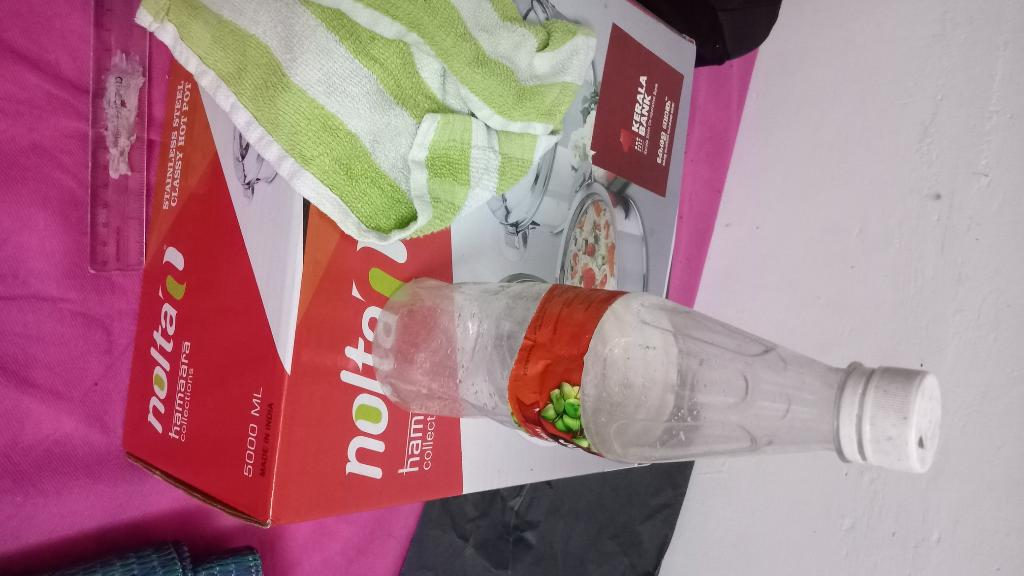garbage: (360, 247, 965, 501)
